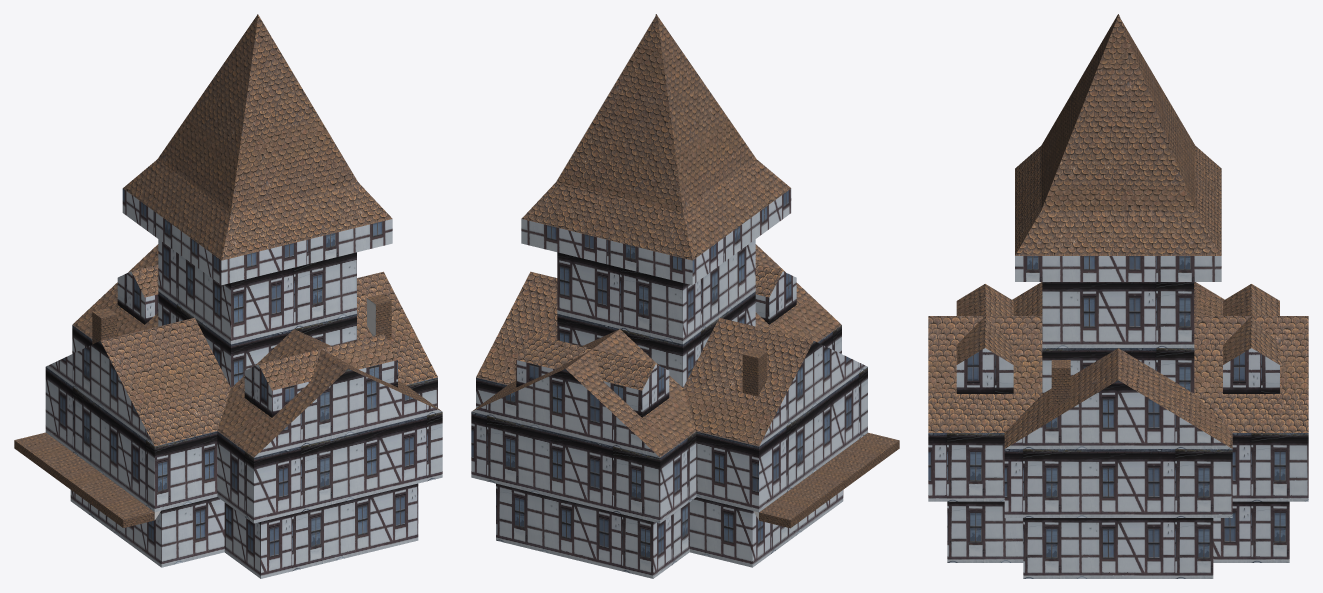
The model's file is Chalet.fbx.
The picture shows the model from 3 angles, left to right: view 1: azimuth 30°, elevation 25°; view 2: azimuth 150°, elevation 25°; view 3: azimuth 270°, elevation 25°; orthographic projection. The views are drawn at different scales.
Visible parts, largest first — view 1: Chalet_1:polySurface1; view 2: Chalet_1:polySurface1; view 3: Chalet_1:polySurface1.
Boxes of the visible parts, x1,y1,x2,y2 form: Chalet_1:polySurface1: (14, 14, 442, 578); Chalet_1:polySurface1: (471, 14, 899, 578); Chalet_1:polySurface1: (928, 14, 1308, 578).
Size of the model in its own units: 10 by 14.75 by 10.
Materials: 4 (4 with a texture image).
